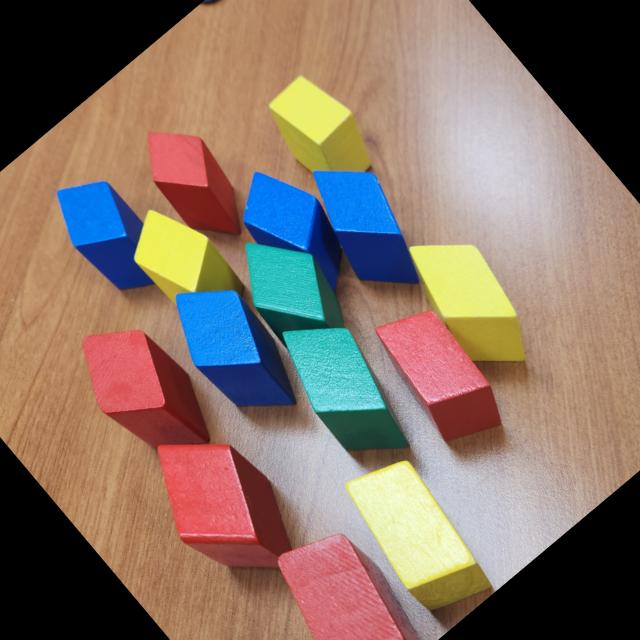blue: (152, 262, 318, 438), (286, 141, 447, 311), (220, 152, 372, 312), (38, 160, 178, 308)
green: (260, 296, 434, 480), (216, 212, 361, 364)
red: (124, 402, 318, 604), (58, 300, 231, 482), (358, 290, 518, 460), (253, 509, 438, 640), (124, 107, 264, 256)
yellow: (328, 442, 506, 630), (390, 213, 553, 387), (116, 192, 250, 331), (256, 64, 389, 202)
